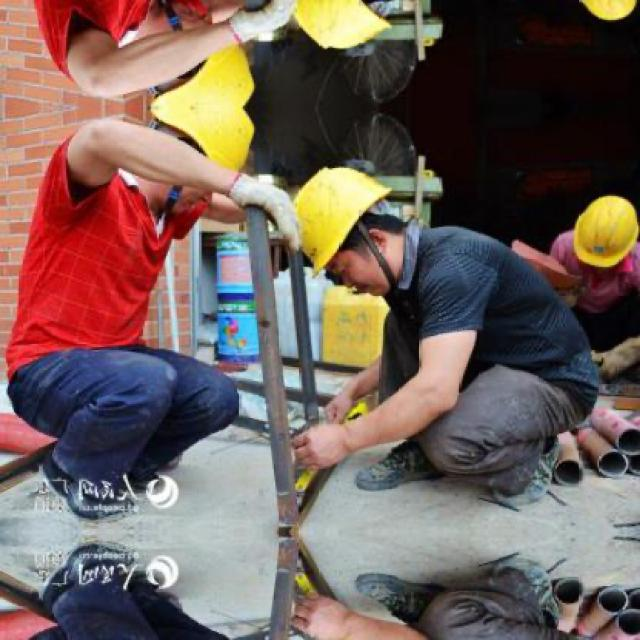helmet: (288, 162, 415, 301), (134, 108, 263, 222), (132, 0, 263, 109), (288, 0, 417, 56), (571, 194, 638, 279), (570, 0, 638, 23)
